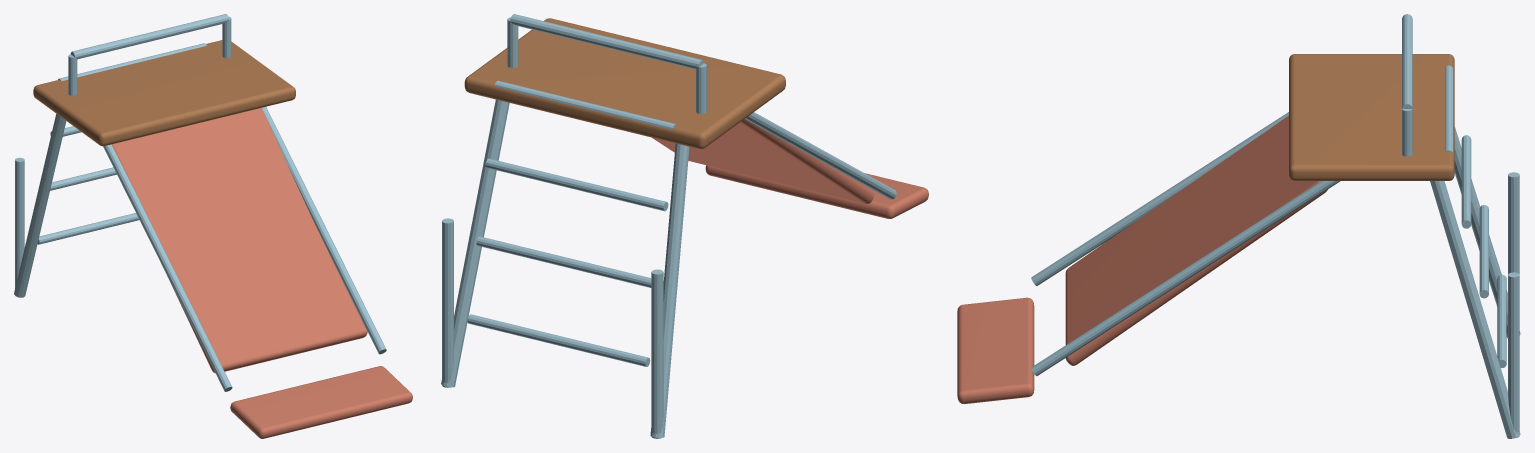
File: kids_slide.glb
3 renders of one model, left to right at view 1: azimuth 30°, elevation 25°; view 2: azimuth 150°, elevation 25°; view 3: azimuth 270°, elevation 25°, orthographic. The views are drawn at different scales.
Parts seen in each view (by area): view 1: Slide chute.001, Slide platform, Tint, Slide rail.002, Slide rail.003, Ladder rail, Handrail top, Slide handrail.001, Ladder rung, Ladder rung.001, Ladder rung.003, Slide handrail; view 2: Slide platform, Slide chute.001, Ladder rail.001, Ladder rail, Tint, Handrail top, Slide handrail.001, Slide handrail.003, Ladder rung.002, Ladder rung, Slide rail.002, Ladder rung.001 (+3 smaller); view 3: Slide chute.001, Slide platform, Tint, Slide rail.003, Ladder rail.001, Slide rail.002, Slide handrail.003, Ladder rail, Slide handrail.001, Handrail top, Ladder rung.002, Ladder rung.001 (+2 smaller).
Boxes of the visible parts, <box> form: Slide chute.001: <box>111,108,367,373</box>; Slide platform: <box>33,40,295,146</box>; Tint: <box>230,366,412,438</box>; Slide rail.002: <box>103,144,232,391</box>; Slide rail.003: <box>261,107,386,354</box>; Ladder rail: <box>14,114,66,297</box>; Handrail top: <box>70,14,228,59</box>; Slide handrail.001: <box>15,157,24,288</box>; Ladder rung: <box>37,213,139,244</box>; Ladder rung.001: <box>50,167,116,190</box>; Ladder rung.003: <box>58,43,206,81</box>; Slide handrail: <box>68,54,77,95</box>; Slide platform: <box>464,18,785,149</box>; Slide chute.001: <box>652,119,873,203</box>; Ladder rail.001: <box>441,99,509,387</box>; Ladder rail: <box>650,143,689,437</box>; Tint: <box>705,165,928,218</box>; Handrail top: <box>510,14,703,69</box>; Slide handrail.001: <box>651,269,663,438</box>; Slide handrail.003: <box>442,218,453,387</box>; Ladder rung.002: <box>485,158,668,211</box>; Ladder rung: <box>467,314,650,366</box>; Slide rail.002: <box>745,112,896,199</box>; Ladder rung.001: <box>476,236,651,287</box>; Slide chute.001: <box>1065,115,1327,365</box>; Slide platform: <box>1289,54,1454,180</box>; Tint: <box>957,297,1034,404</box>; Slide rail.003: <box>1031,181,1340,375</box>; Ladder rail.001: <box>1430,181,1520,438</box>; Slide rail.002: <box>1031,112,1288,285</box>; Slide handrail.003: <box>1508,272,1519,438</box>; Ladder rail: <box>1454,127,1520,338</box>; Slide handrail.001: <box>1508,172,1519,274</box>; Handrail top: <box>1402,14,1412,108</box>; Ladder rung.002: <box>1461,135,1471,228</box>; Ladder rung.001: <box>1479,205,1488,298</box>.
Size of the model in its own units: 0.92 by 1.22 by 1.9.
